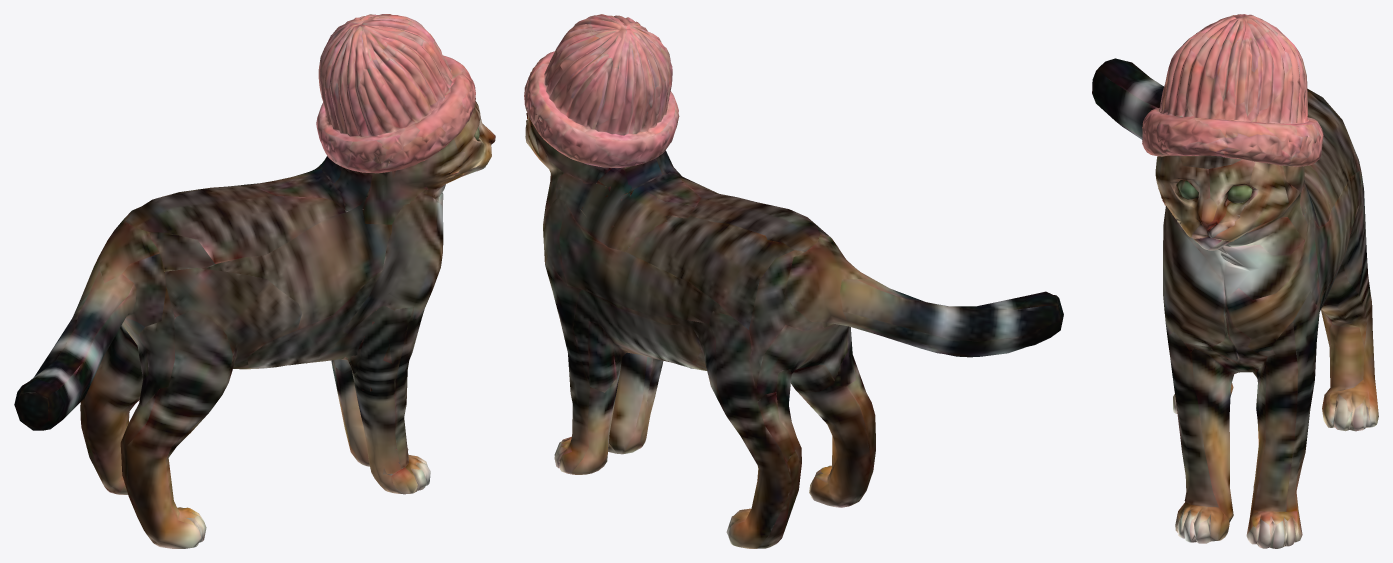
File: catwifhat-2-lo.glb
3 views of the same model, side by side, from view 1: azimuth 30°, elevation 25°; view 2: azimuth 150°, elevation 25°; view 3: azimuth 270°, elevation 25° (orthographic). The views are drawn at different scales.
Visible parts, largest first — view 1: fit; view 2: fit; view 3: fit.
Part boxes in pixels (left/top/right/bottom): fit: left=14, top=14, right=495, bottom=548; fit: left=524, top=14, right=1063, bottom=548; fit: left=1092, top=14, right=1378, bottom=548.
Size of the model in its own units: 1.19 by 0.9998 by 0.5141.
Materials: 1 (1 with a texture image).
